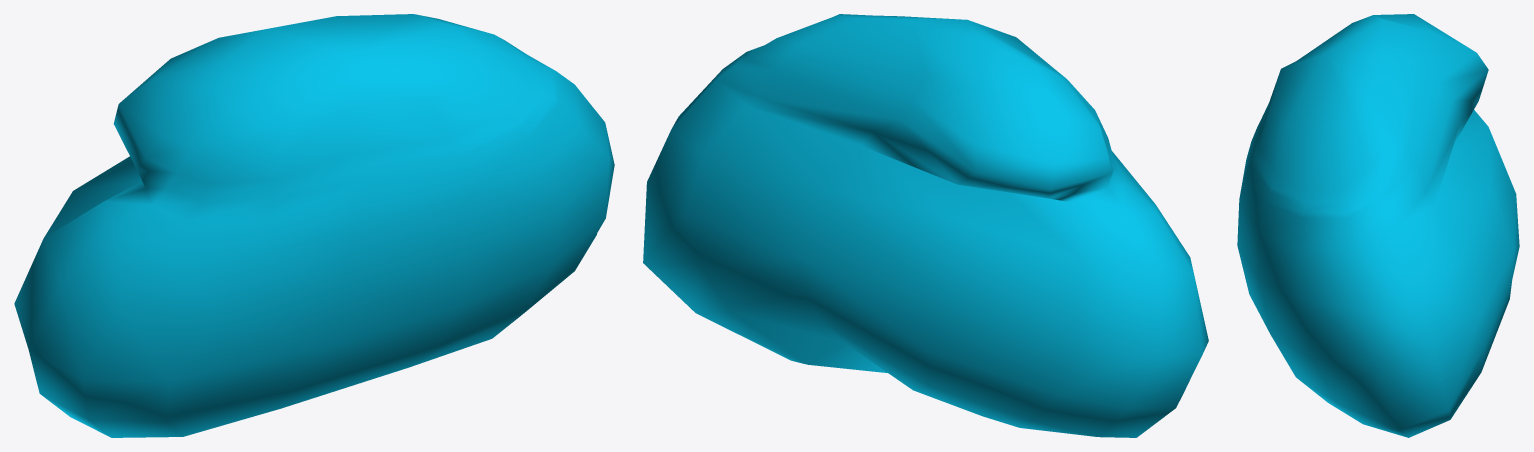
File: Bush_2.fbx
3 renders of one model, left to right at view 1: azimuth 30°, elevation 25°; view 2: azimuth 150°, elevation 25°; view 3: azimuth 270°, elevation 25°, orthographic. The views are drawn at different scales.
Parts seen in each view (by area): view 1: bush_2_low; view 2: bush_2_low; view 3: bush_2_low.
Boxes of the visible parts, x1=… form: bush_2_low: x1=14, y1=14, x2=614, y2=437; bush_2_low: x1=643, y1=14, x2=1208, y2=437; bush_2_low: x1=1237, y1=14, x2=1519, y2=437.
Bounding box in the file's own units: 0.5664 × 0.3487 × 0.2685.
